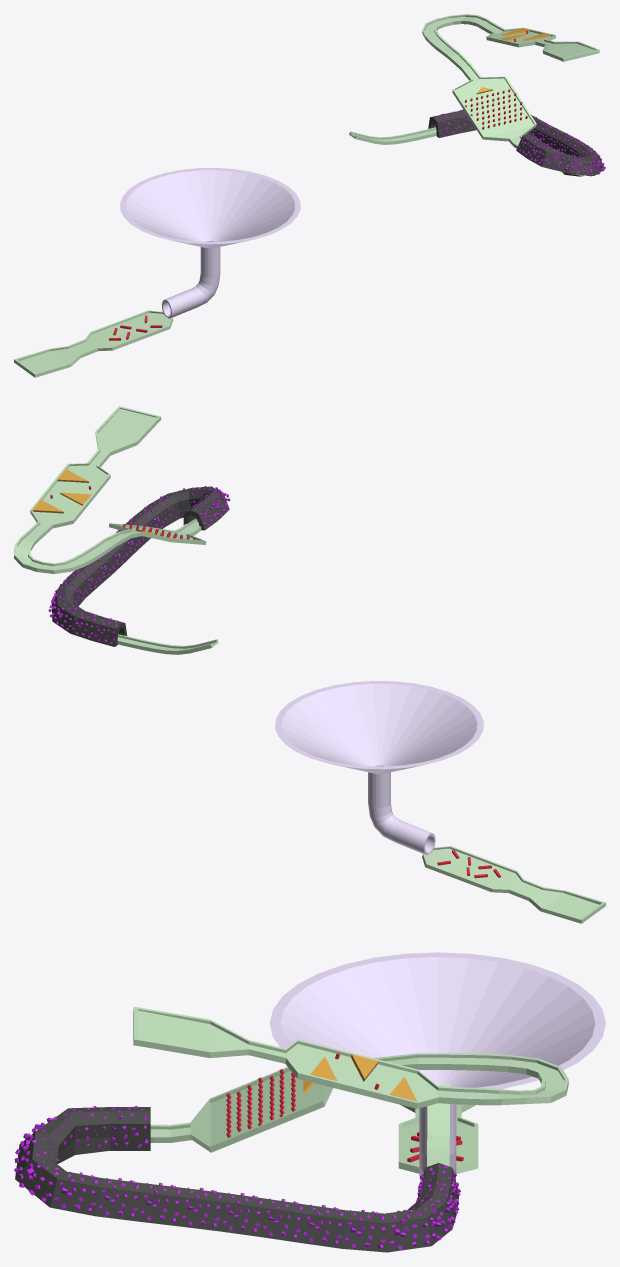
File: Pistovich.fbx
3 views of the same model, one above another, from view 1: azimuth 30°, elevation 25°; view 2: azimuth 150°, elevation 25°; view 3: azimuth 270°, elevation 25° (orthographic). The views are drawn at different scales.
Parts seen in each view (by area): view 1: Cylinder, Tunel, Seg.2, Seg.4, Inicio, Vuelta.1, Rampa; view 2: Cylinder, Tunel, Inicio, Seg.4, Vuelta.1, Rampa, Seg.2, ObstInicio; view 3: Cylinder, Tunel, Inicio, Seg.2, Vuelta.1, Seg.4, Rampa, ObstInicio.
Part boxes in pixels (x1,y1,x2,y2): Cylinder: (120,168,300,318); Tunel: (428,109,605,176); Seg.2: (452,65,536,141); Seg.4: (14,310,173,377); Inicio: (486,27,599,61); Vuelta.1: (422,14,504,69); Rampa: (349,127,597,175); Cylinder: (275,681,483,855); Tunel: (48,486,230,646); Inicio: (30,406,161,528); Seg.4: (422,846,605,923); Vuelta.1: (14,521,131,573); Rampa: (117,519,218,654); Seg.2: (109,523,206,544); ObstInicio: (32,469,91,513); Cylinder: (269,952,605,1181); Tunel: (14,1106,460,1252); Inicio: (133,1007,438,1108); Seg.2: (190,1067,333,1152); Vuelta.1: (373,1053,568,1105); Seg.4: (398,1104,478,1173); Rampa: (150,1083,449,1166); ObstInicio: (310,1053,416,1101).
Size of the model in its own units: 2727 by 1373 by 1527.
